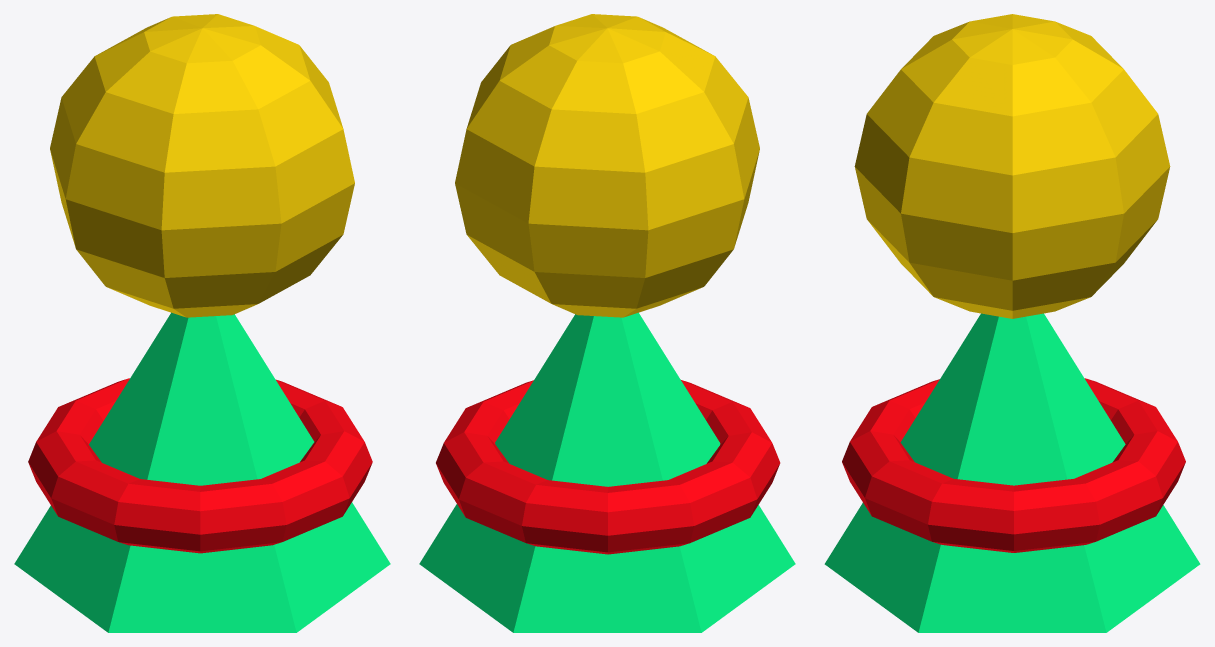
File: Flower2.fbx
3 views of the same model, side by side, from view 1: azimuth 30°, elevation 25°; view 2: azimuth 150°, elevation 25°; view 3: azimuth 270°, elevation 25° (orthographic).
Visible parts, largest first — view 1: Cone; view 2: Cone; view 3: Cone.
Boxes of the visible parts, x1,y1,x2,y2 form: Cone: [14, 14, 390, 632]; Cone: [419, 14, 795, 632]; Cone: [824, 14, 1200, 632].
Size of the model in its own units: 3.66 by 6.28 by 4.
